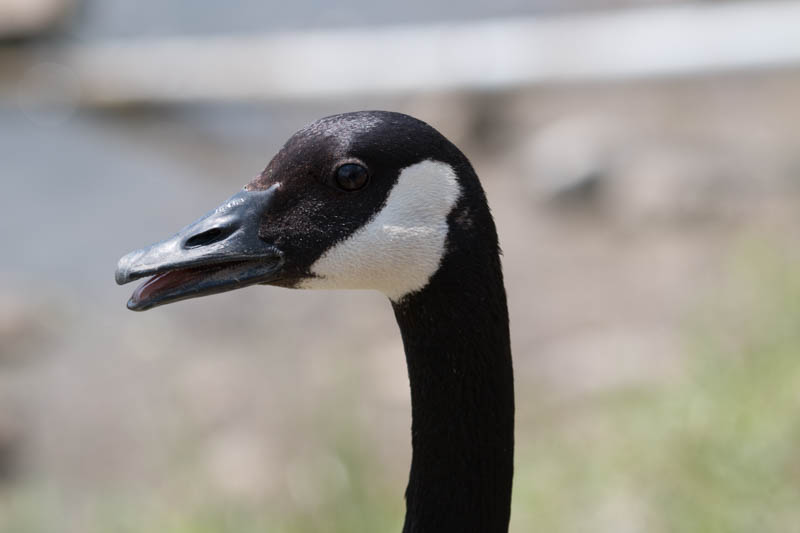goose-head: (114, 109, 501, 312)
